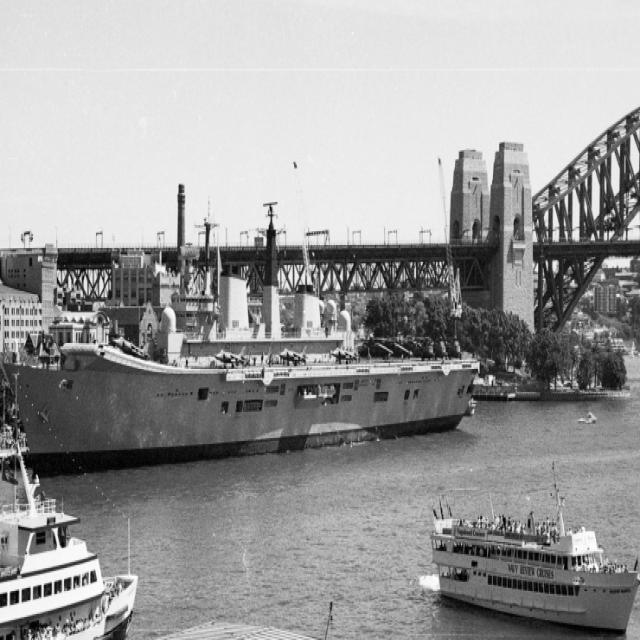Portanaves: (5, 189, 487, 485)
